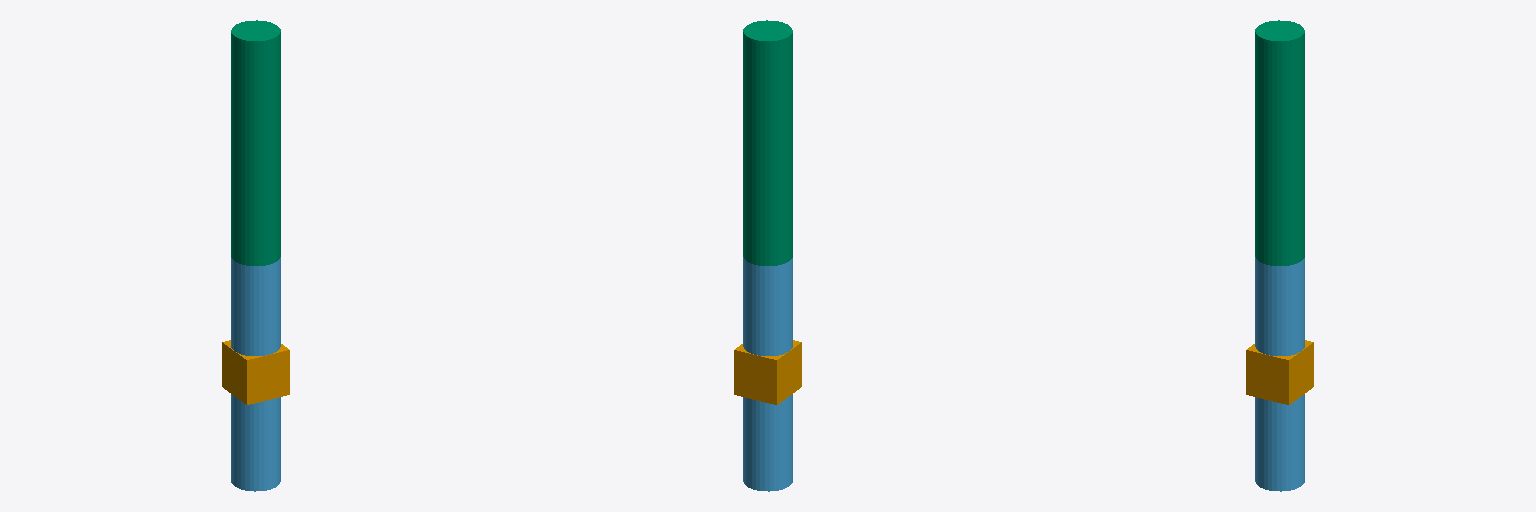
The robot description file, URDF, robot "rrbot":
<!-- simple rrbot configuration -->
<robot name="rrbot">
    <link name="base_link">
    <visual>
        <geometry>
        <box size="0.1 0.1 0.1"/>
        </geometry>
    </visual>
    </link>

    <joint name="joint1" type="revolute">
    <parent link="base_link"/>
    <child link="link1"/>
    <origin xyz="0 0 0" rpy="0 0 0"/>
    <axis xyz="0 0 1"/>
    <limit effort="10" lower="-3.14" upper="3.14" velocity="1"/>
    </joint>

    <link name="link1">
    <visual>
        <geometry>
        <cylinder radius="0.05" length="0.5"/>
        </geometry>
    </visual>
    </link>

    <joint name="joint2" type="revolute">
        <parent link="link1"/>
        <child link="link2"/>
        <origin xyz="0 0 0.5" rpy="0 0 0"/>
        <axis xyz="0 1 0"/>
        <limit effort="10" lower="-3.14" upper="3.14" velocity="1"/>
    </joint>

    <link name="link2">
        <visual>
            <geometry>
                <cylinder radius="0.05" length="0.5"/>
            </geometry>
        </visual>
    </link>
<ros2_control name="MyHardwareSystem" type="system">
    <hardware>
        <plugin>dynamixel_hardware_interface/DynamixelHardware</plugin>
            <param name="port_name">/dev/ttyUSB0</param>
            <param name="baud_rate">4500000</param>
            <param name="error_timeout_ms">500</param>
            <param name="dynamixel_model_folder">/param/dxl_model</param>
            <param name="number_of_joints">2</param>
            <param name="number_of_transmissions">2</param>
            <param name="transmission_to_joint_matrix">
              1, 0, 0, 0, 0,
              0, 1, 0, 0, 0,
              0, 0, 1, 0, 0,
              0, 0, 0, 1, 0,
              0, 0, 0, 0, 1
            </param>
            <param name="joint_to_transmission_matrix">
              1, 0, 0, 0, 0,
              0, 1, 0, 0, 0,
              0, 0, 1, 0, 0,
              0, 0, 0, 1, 0,
              0, 0, 0, 0, 1
            </param>
            <param name="dynamixel_state_pub_msg_name">dynamixel_hardware_interface/dxl_state</param>
            <param name="get_dynamixel_data_srv_name">dynamixel_hardware_interface/get_dxl_data</param>
            <param name="set_dynamixel_data_srv_name">dynamixel_hardware_interface/set_dxl_data</param>
            <param name="reboot_dxl_srv_name">dynamixel_hardware_interface/reboot_dxl</param>
            <param name="set_dxl_torque_srv_name">dynamixel_hardware_interface/set_dxl_torque</param>
    </hardware>
    <joint name="joint1">
        <command_interface name="position"/>
        <state_interface name="position"/>
        <state_interface name="velocity"/>
        <state_interface name="effort"/>
    </joint>

    <joint name="joint2">
        <command_interface name="position"/>
        <state_interface name="position"/>
        <state_interface name="velocity"/>
        <state_interface name="effort"/>
    </joint>

    <gpio name="dxl1">
        <param name="type">dxl</param>
        <param name="ID">1</param>
        <command_interface name="Goal Position"/>
        <state_interface name="Present Position"/>
        <state_interface name="Present Velocity"/>
        <state_interface name="Torque Enable"/>
        <state_interface name="Present Input Voltage"/>
        <param name="Position P Gain">10</param>
        <param name="Position I Gain">1</param>
        <param name="Position D Gain">1</param>
        <param name="Profile Velocity">200</param>
        <param name="Profile Acceleration">50</param>
        <param name="Drive Mode">0</param>
      </gpio>

      <gpio name="dxl2">
        <param name="type">dxl</param>
        <param name="ID">2</param>
        <command_interface name="Goal Position"/>
        <state_interface name="Present Position"/>
        <state_interface name="Present Velocity"/>
        <state_interface name="Torque Enable"/>
        <state_interface name="Present Input Voltage"/>
        <param name="Position P Gain">10</param>
        <param name="Position I Gain">1</param>
        <param name="Position D Gain">1</param>
        <param name="Profile Velocity">200</param>
        <param name="Profile Acceleration">50</param>
        <param name="Drive Mode">0</param>
      </gpio>
</ros2_control>
</robot>

--- What the picture shows (computed from the rendered views, not written in the file) ---
The picture shows the robot from 3 angles, left to right: view 1: azimuth 30°, elevation 25°; view 2: azimuth 150°, elevation 25°; view 3: azimuth 330°, elevation 25°; orthographic projection.
Robot: rrbot — 3 links, 2 joints (2 revolute); root link base_link; default pose: all joints at 0.
Visible links, largest first — view 1: link2, link1, base_link; view 2: link2, link1, base_link; view 3: link2, link1, base_link.
Boxes of the visible links, box(x1,y1,x2,y2) form: link2: box(231, 20, 280, 265); link1: box(231, 257, 280, 491); base_link: box(222, 340, 289, 404); link2: box(743, 20, 792, 265); link1: box(743, 257, 792, 491); base_link: box(734, 340, 801, 404); link2: box(1255, 20, 1304, 265); link1: box(1255, 257, 1304, 491); base_link: box(1246, 340, 1313, 404).
Bounding box of the posed robot: 0.1 × 0.1 × 1 m (x, y, z).
Geometry: primitives only (box / cylinder / sphere), no mesh files.
